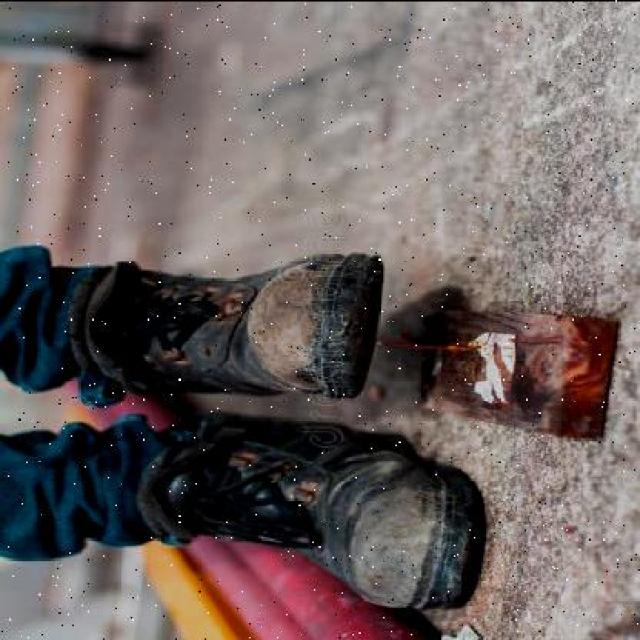shoes: (147, 424, 491, 588), (81, 246, 390, 399)
